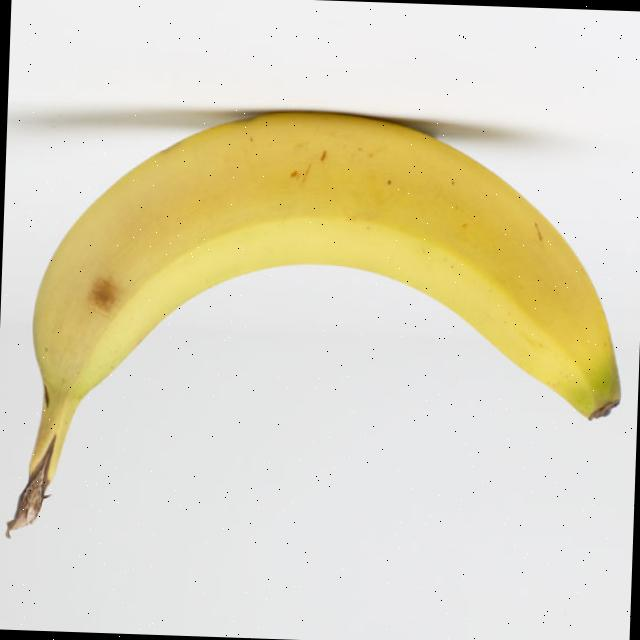Pisang: (2, 100, 630, 562)
